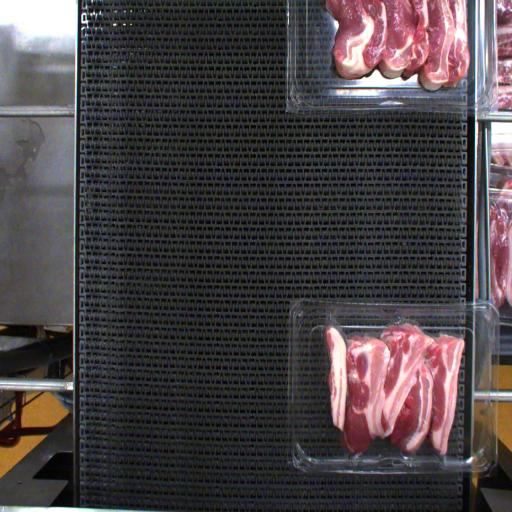unsealed: (318, 314, 480, 360)
